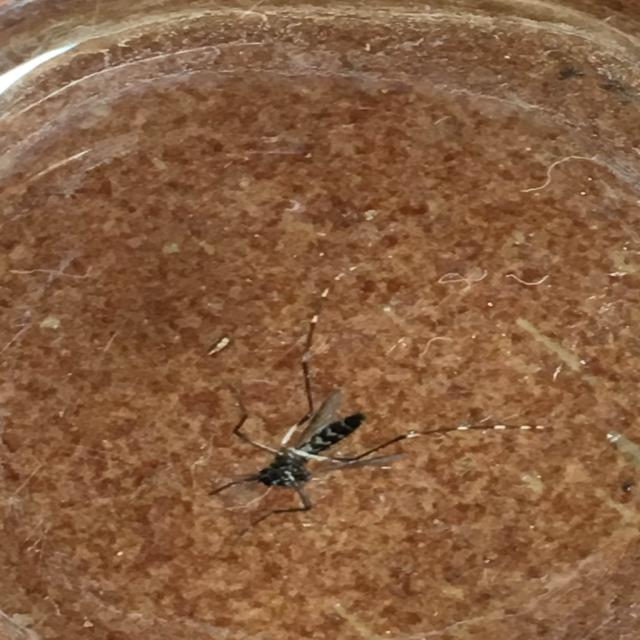albopictus: (183, 234, 556, 532)
